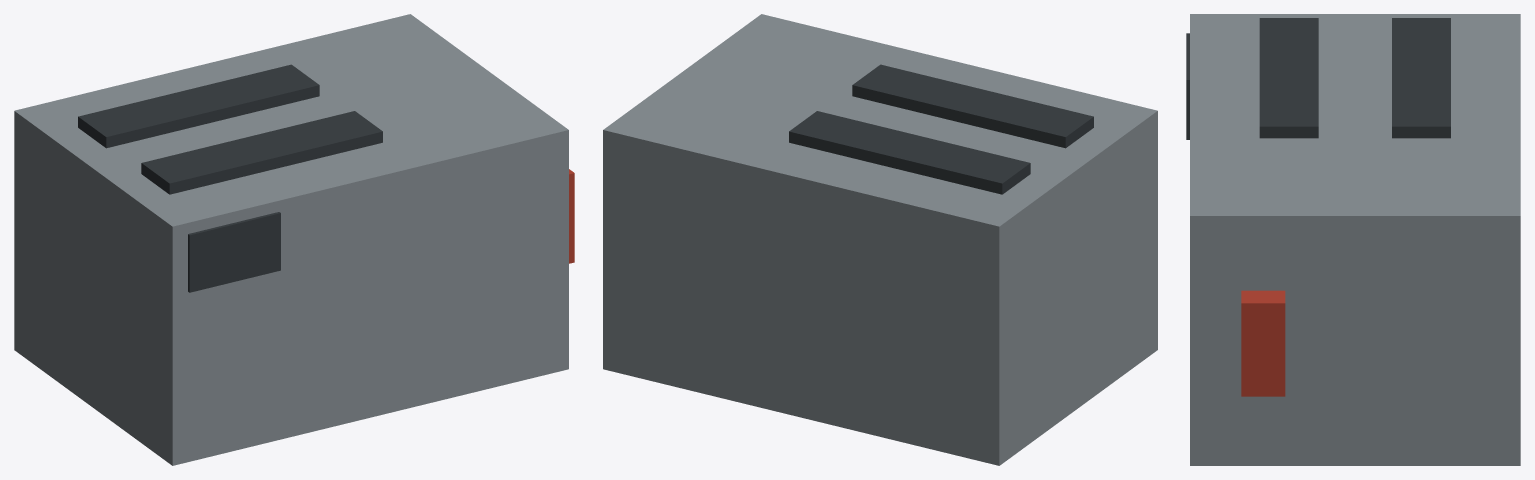
File: broken_toaster.glb
3 renders of one model, left to right at view 1: azimuth 30°, elevation 25°; view 2: azimuth 150°, elevation 25°; view 3: azimuth 270°, elevation 25°, orthographic. The views are drawn at different scales.
Visible parts, largest first — view 1: broken_toaster; view 2: broken_toaster; view 3: broken_toaster.
Boxes of the visible parts, x1,y1,x2,y2 form: broken_toaster: (14, 14, 574, 465); broken_toaster: (603, 14, 1157, 465); broken_toaster: (1186, 14, 1520, 465).
Bounding box in the file's own units: 0.14 × 0.0785 × 0.091.
